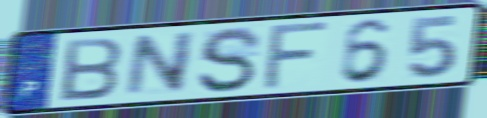5: (407, 12, 463, 80)
6: (337, 16, 394, 86)
B: (58, 35, 126, 103)
F: (259, 19, 334, 92)
N: (122, 29, 199, 100)
S: (195, 25, 265, 95)
